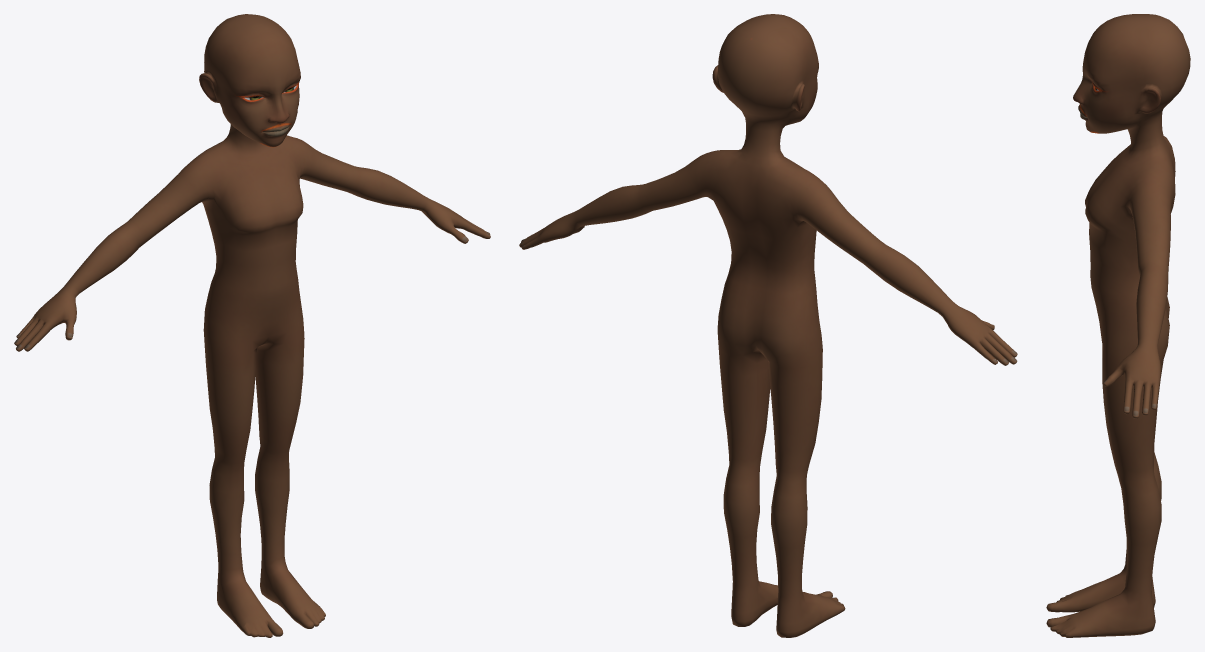
Rendered from frame_0015.glb.
3 views of the same model, side by side, from view 1: azimuth 30°, elevation 25°; view 2: azimuth 150°, elevation 25°; view 3: azimuth 270°, elevation 25° (orthographic). The views are drawn at different scales.
Visible parts, largest first — view 1: frame_0015_head_geo; view 2: frame_0015_head_geo; view 3: frame_0015_head_geo.
Boxes of the visible parts, x1=… form: frame_0015_head_geo: x1=14, y1=14, x2=490, y2=637; frame_0015_head_geo: x1=519, y1=14, x2=1017, y2=637; frame_0015_head_geo: x1=1046, y1=14, x2=1190, y2=637.
Bounding box in the file's own units: 1.28 × 1.5 × 0.3253.
3 materials, 3 textured.
